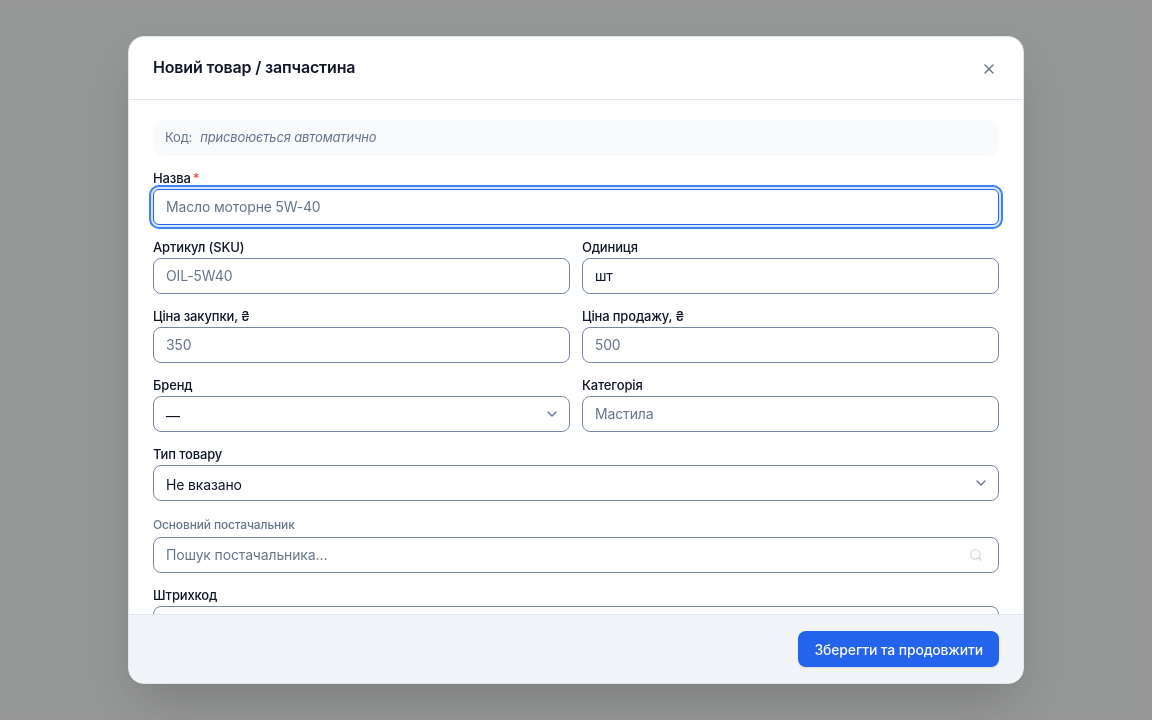
Test: GoodEditModal — валідація zod + react-hook-form › від'ємна ціна → inline-помилка, POST не йде
In the field with placeholder "Масло моторне 5W-40": (576, 206) [153, 188, 999, 224], type "Товар"
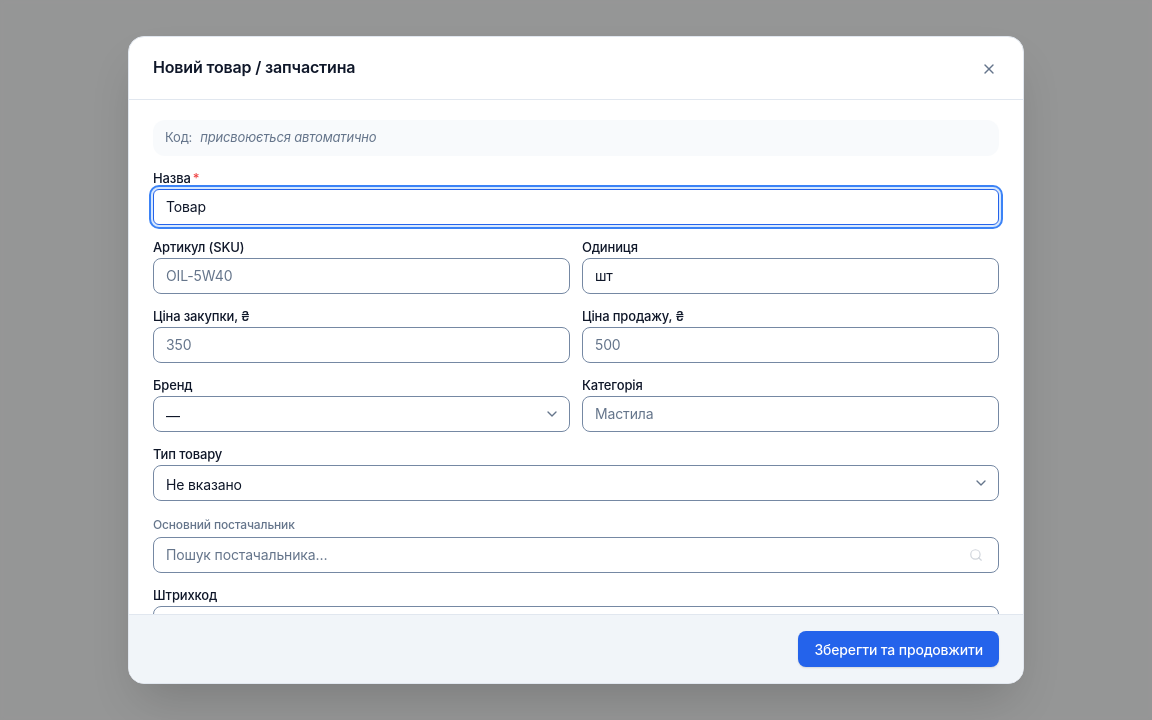
In the number field with placeholder "500": (790, 344) [582, 326, 999, 362], type "-10"
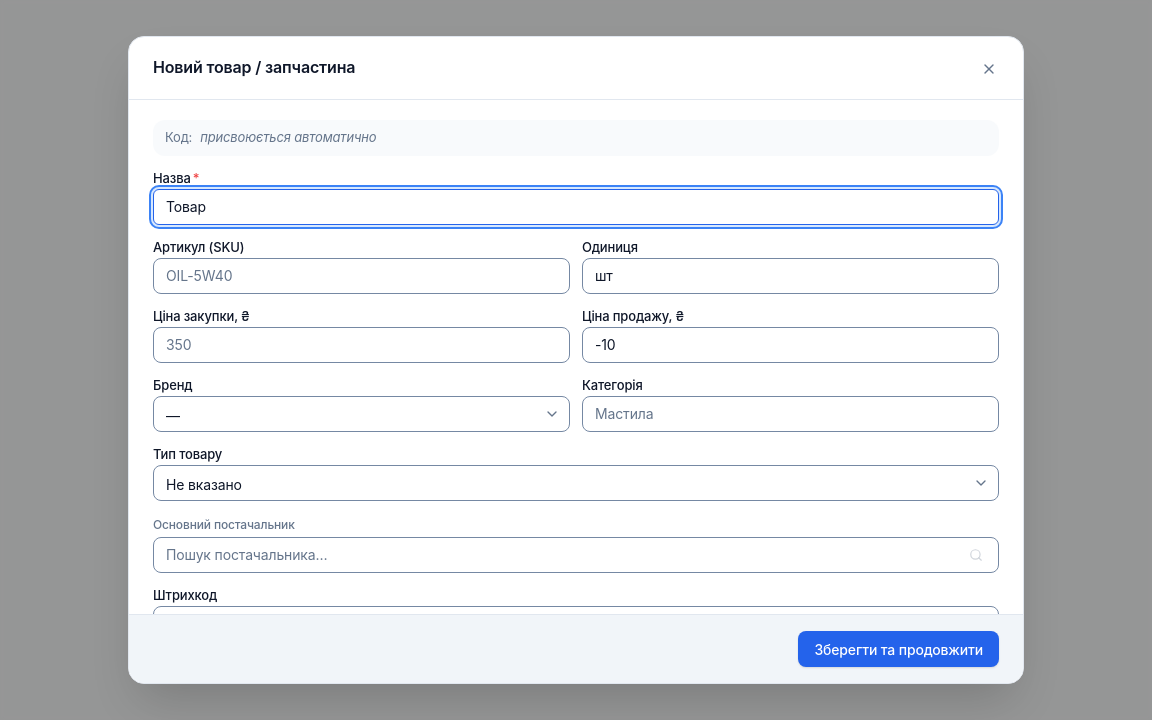
Click the button "Зберегти та продовжити": (899, 649) [798, 631, 999, 667]
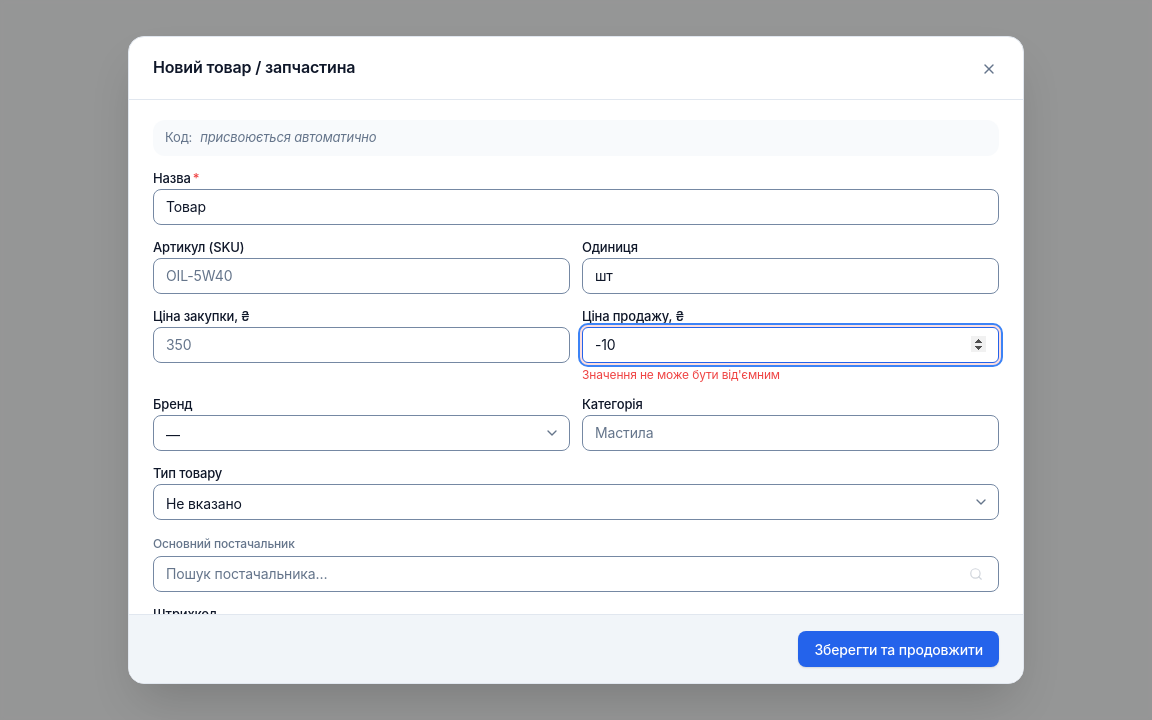
Now the text "Значення не може бути від'ємним" is shown, box [582, 366, 780, 382]
